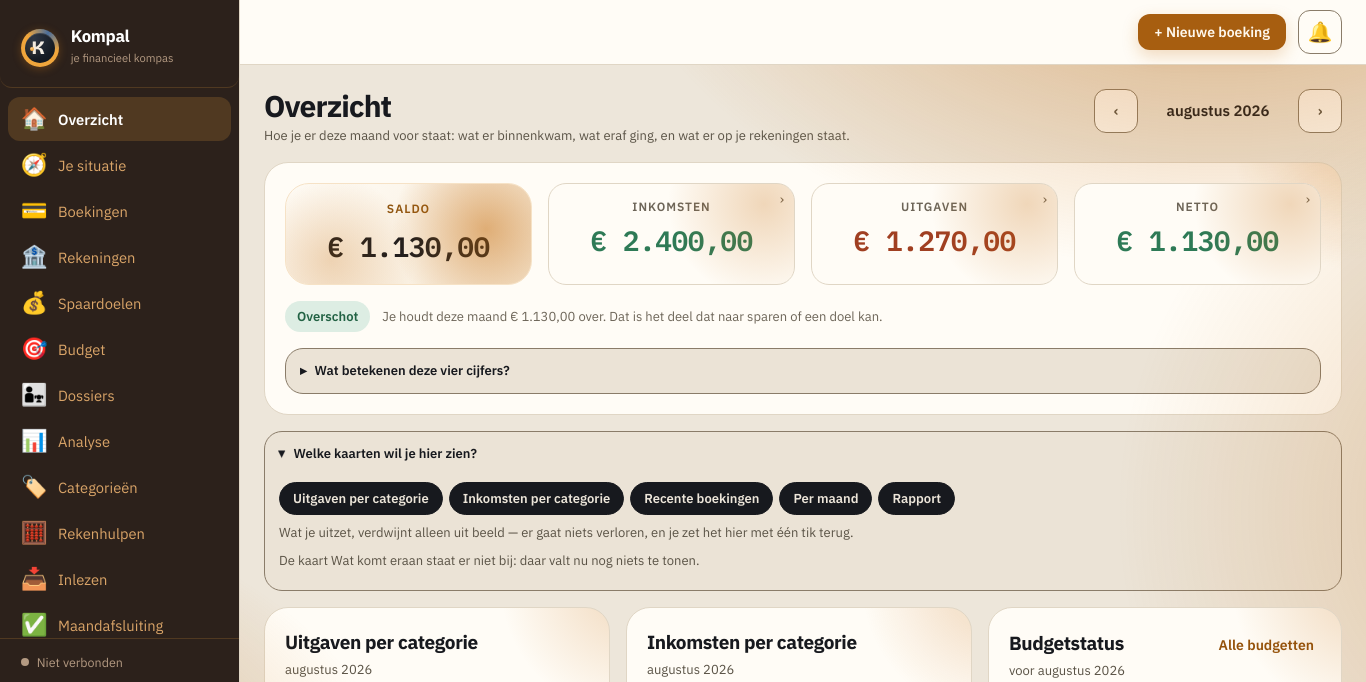
Test: App op een breed scherm › opent de invoerpopup vanuit de bovenbalk, zonder de pagina te verlaten
Expected: the text "Saldo" is shown, top-left (387, 200), bottom-right (430, 218)
Step 1. Click the button "+ Nieuwe boeking" → point(1212, 32), box top-left (1138, 14), bottom-right (1286, 50)
(page scrolled)
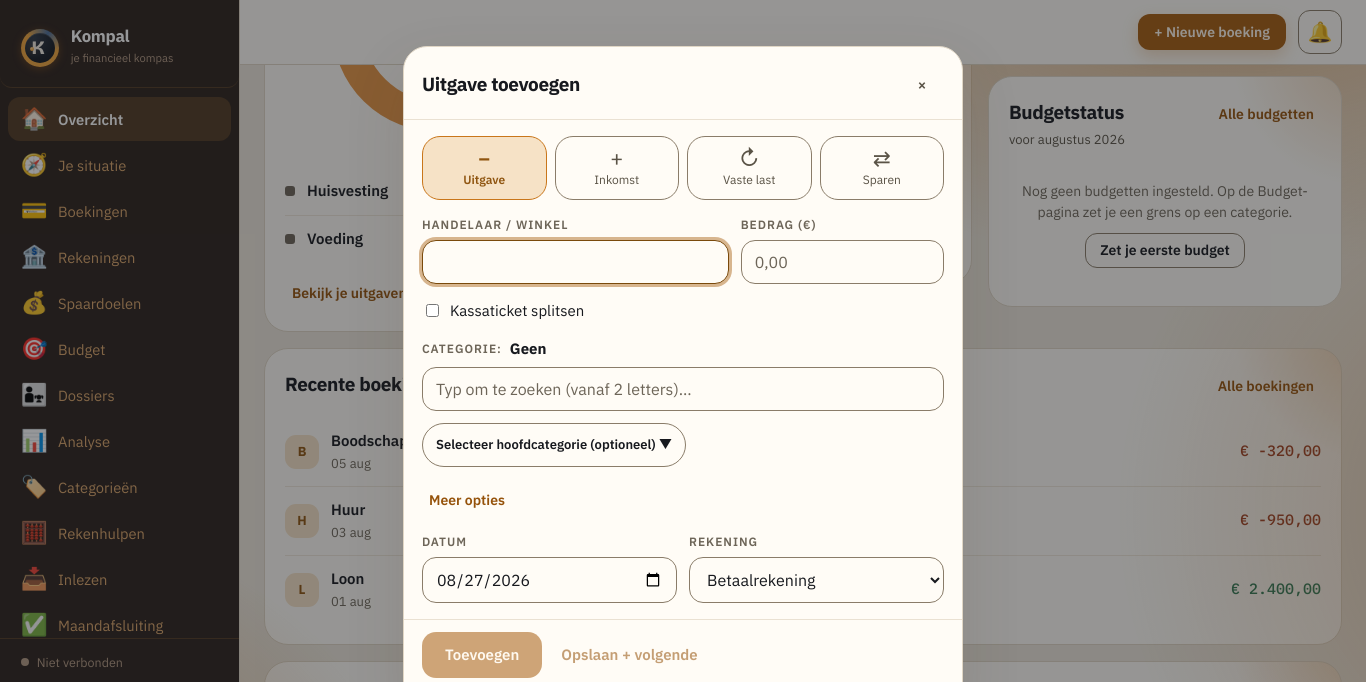
Expected: the heading "Recente boekingen" is shown, top-left (285, 370), bottom-right (449, 398)
Result: the dropdown labelled "Handelaar / winkel" is shown at top-left (422, 240), bottom-right (729, 284)
